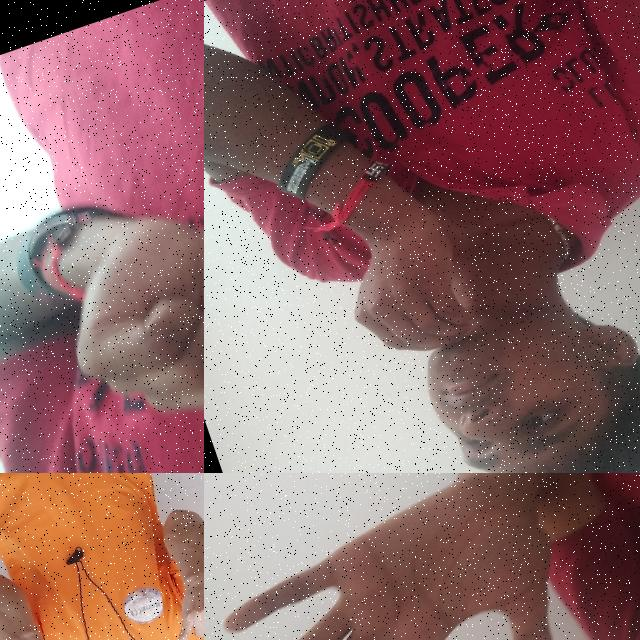Chin Flick: (289, 117, 640, 473)
Corna: (148, 559, 204, 640)
Dulya: (17, 140, 204, 473)
Moutza: (204, 473, 613, 640)
